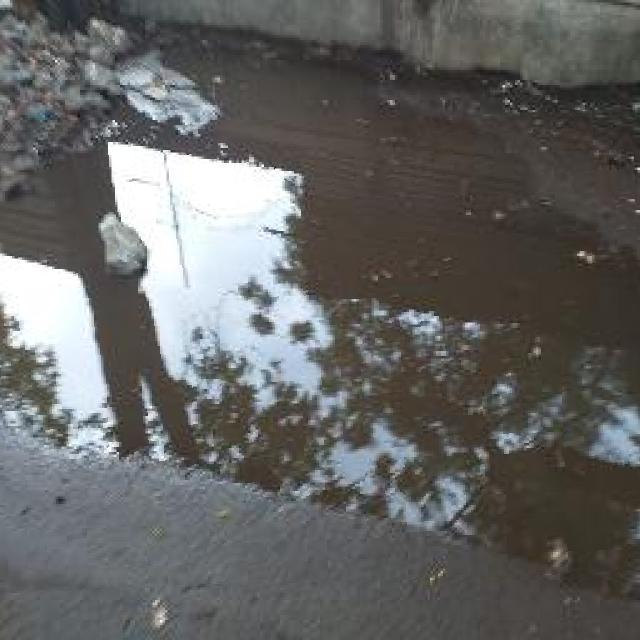puddle: (1, 115, 640, 588)
